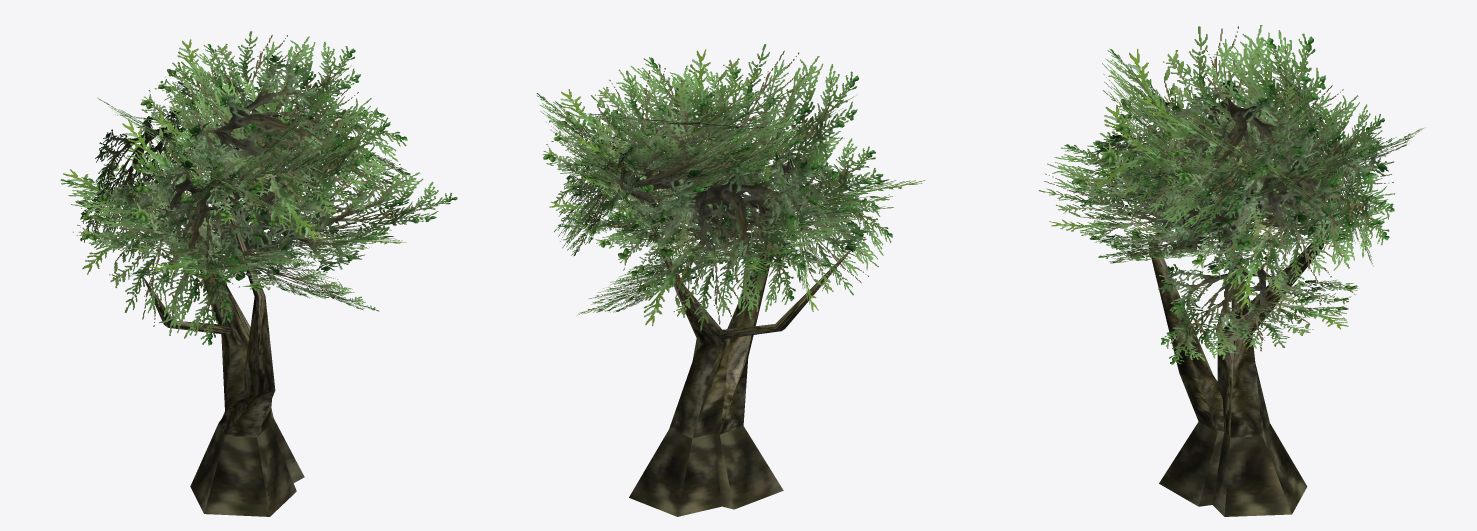
File: olive_01.glb
3 views of the same model, side by side, from view 1: azimuth 30°, elevation 25°; view 2: azimuth 150°, elevation 25°; view 3: azimuth 270°, elevation 25° (orthographic). The views are drawn at different scales.
Bounding box in the file's own units: 13.13 × 13.57 × 13.42.
Materials: 1 (1 with a texture image).
